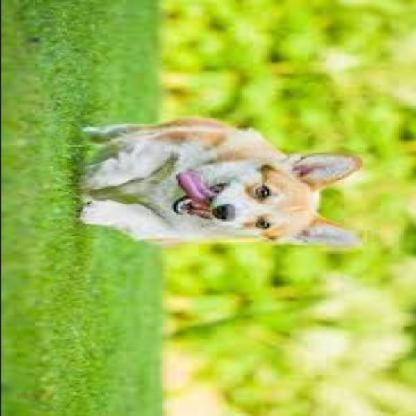dog: (77, 116, 363, 246)
